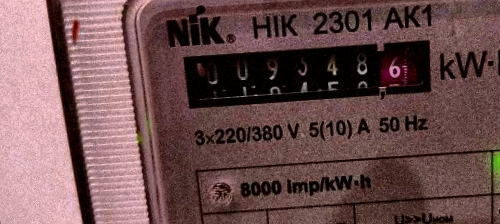0: (202, 60, 220, 87), (233, 55, 249, 82)
3: (294, 52, 310, 77)
4: (321, 47, 341, 79)
6: (384, 51, 403, 81)
8: (353, 48, 370, 77)
9: (264, 56, 280, 84)
screen: (164, 24, 447, 122)
